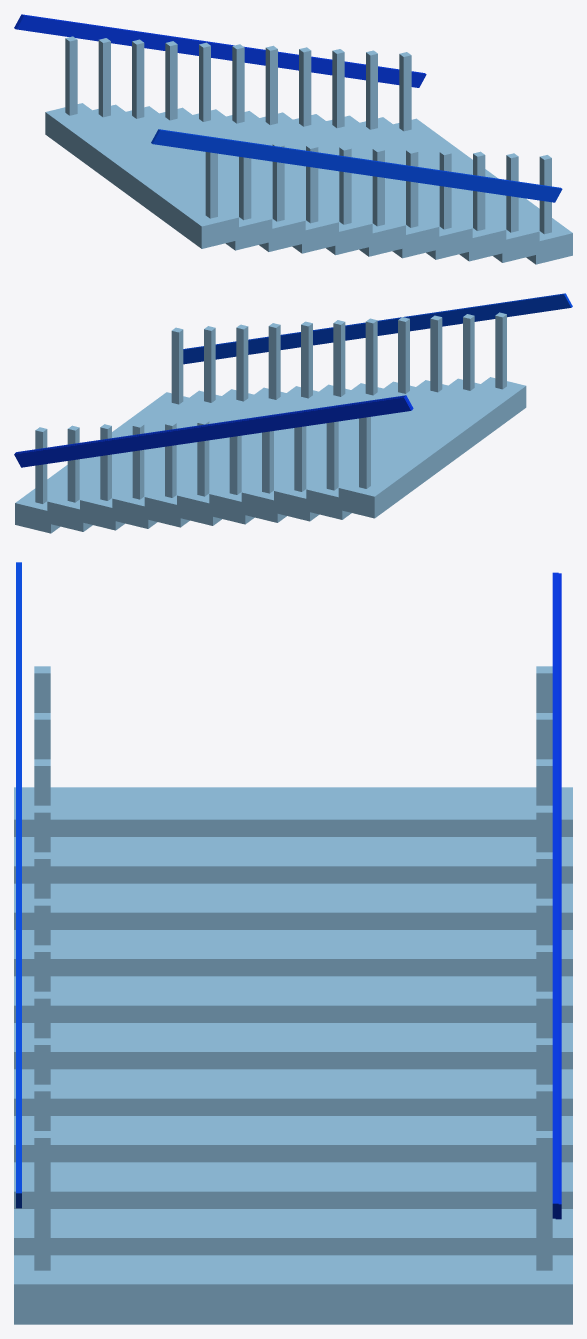
The model's file is stairrailingblend.fbx.
The picture shows the model from 3 angles, top to bottom: view 1: azimuth 30°, elevation 25°; view 2: azimuth 150°, elevation 25°; view 3: azimuth 270°, elevation 25°; orthographic projection. The views are drawn at different scales.
Parts seen in each view (by area): view 1: Cylinder, Cube.003, Cube.001; view 2: Cylinder, Cube, Cube.003, Cube.001; view 3: Cylinder, Cube.001, Cube.003, Cube.
Part boxes in pixels (x1,y1,x2,y2): Cylinder: (45,36,572,264); Cube.003: (151,129,562,202); Cube.001: (15,14,426,87); Cylinder: (15,312,526,533); Cube: (14,397,412,467); Cube.003: (183,293,572,364); Cube.001: (15,395,413,453); Cylinder: (14,666,572,1324); Cube.001: (552,572,558,1218); Cube.003: (16,562,21,1208); Cube: (555,573,561,1219).
Size of the model in its own units: 404 by 206 by 258.
